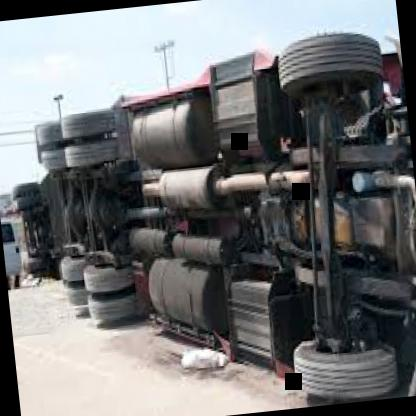accident: (3, 22, 416, 416)
